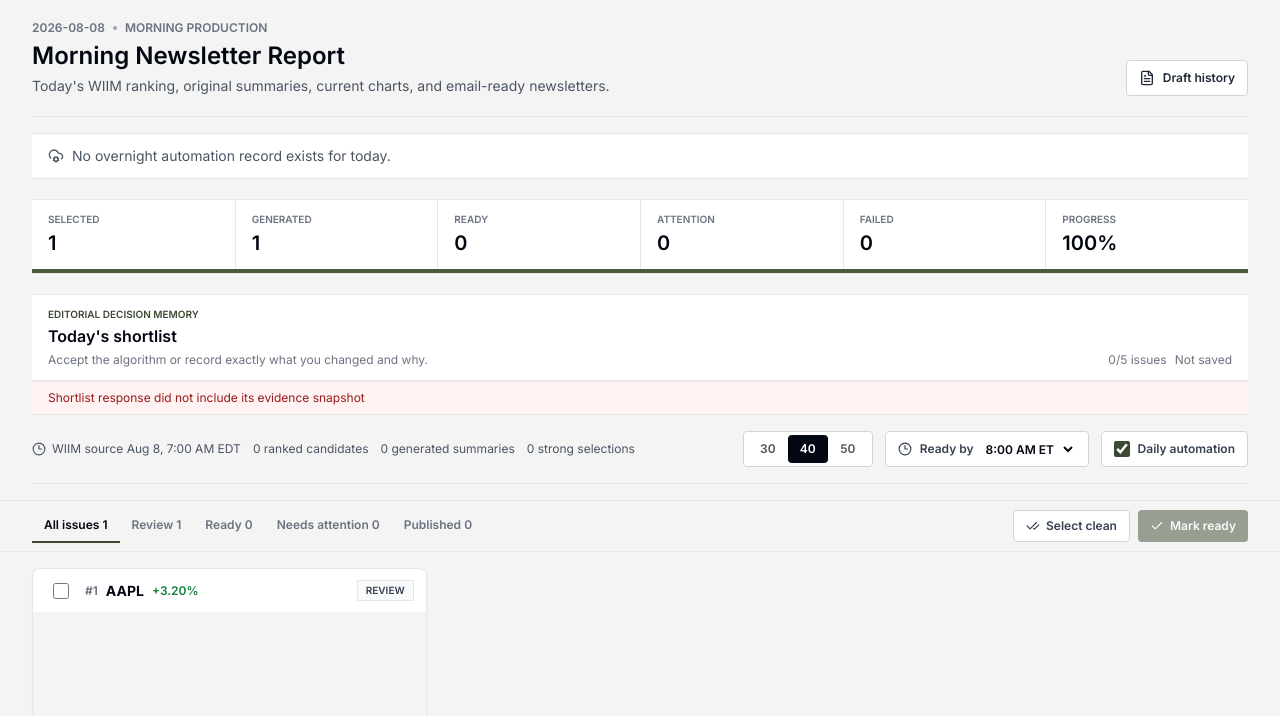
Scenario: NewsletterMorningReview polling reliability › preserves selected issues across a same-run refresh
Step 1. Click the checkbox named "Select AAPL" → click(61, 590), box [53, 582, 69, 598]
Wait 60000 ms
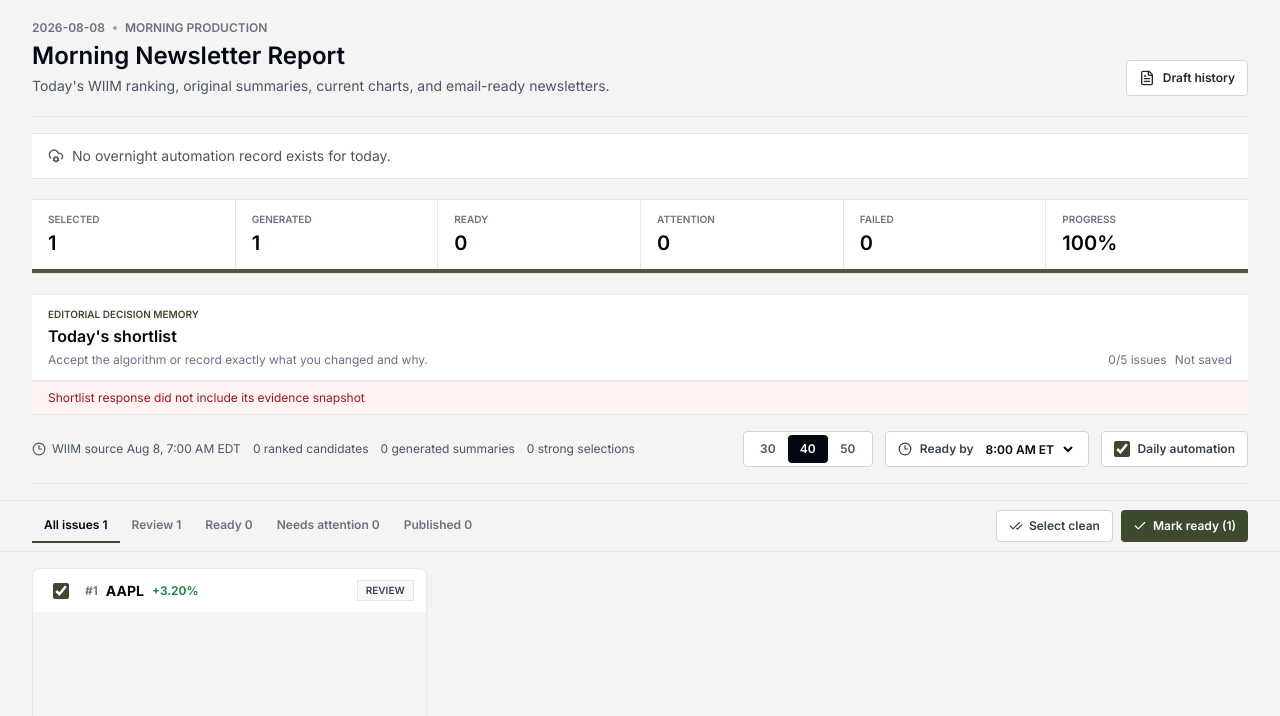
Now the checkbox named "Select AAPL" is checked, box [53, 582, 69, 598]
Now the button "Mark ready (1)" is enabled, box [1121, 510, 1248, 542]
